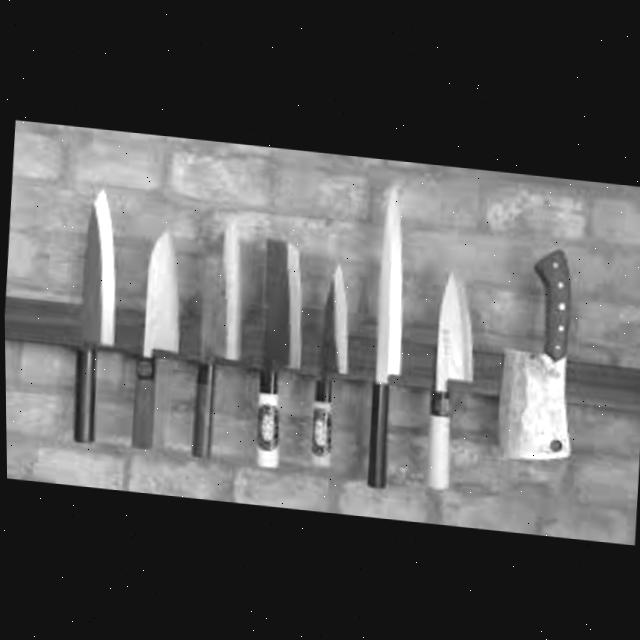Knife: (490, 236, 583, 459), (360, 175, 412, 486), (185, 219, 251, 458), (67, 182, 124, 441), (249, 233, 310, 467), (419, 262, 480, 488), (126, 221, 186, 447), (305, 268, 354, 456)
